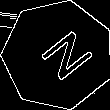N_SW: (25, 24, 91, 87)
